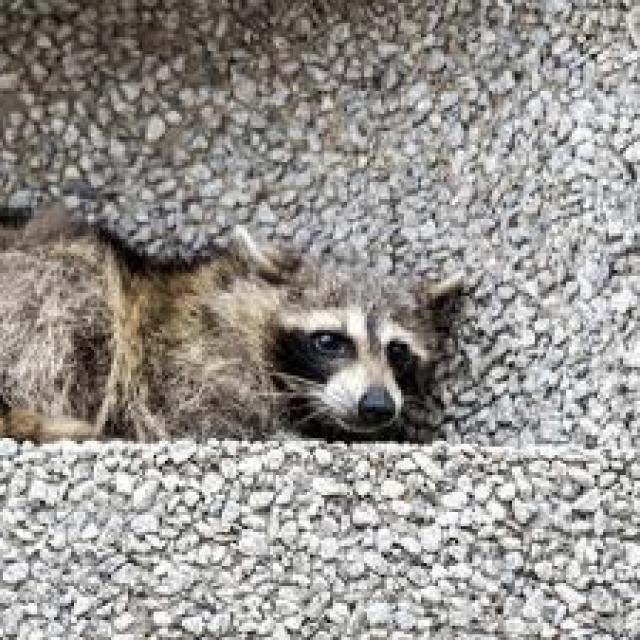raccoon: (3, 205, 461, 438)
